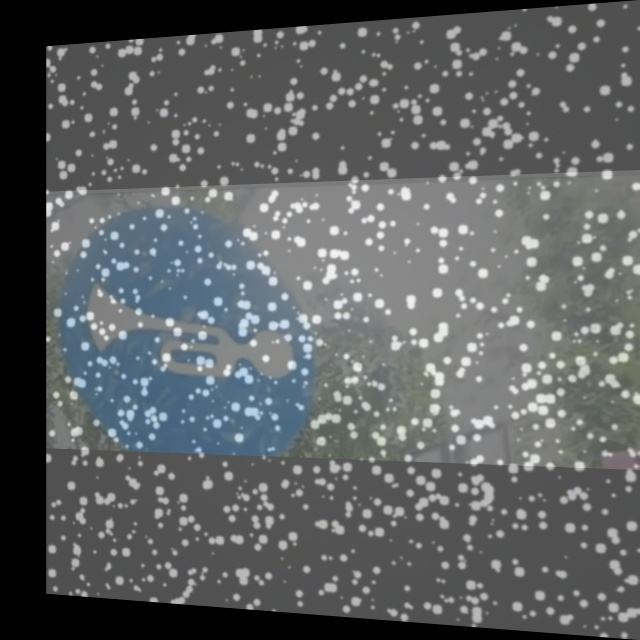Compulsory_Sound_Horn: (69, 206, 321, 450)
